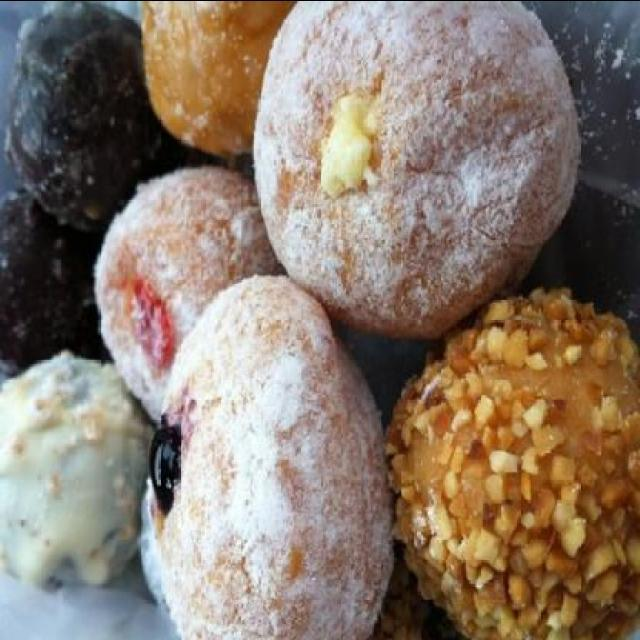Donuts: (4, 1, 380, 634)
